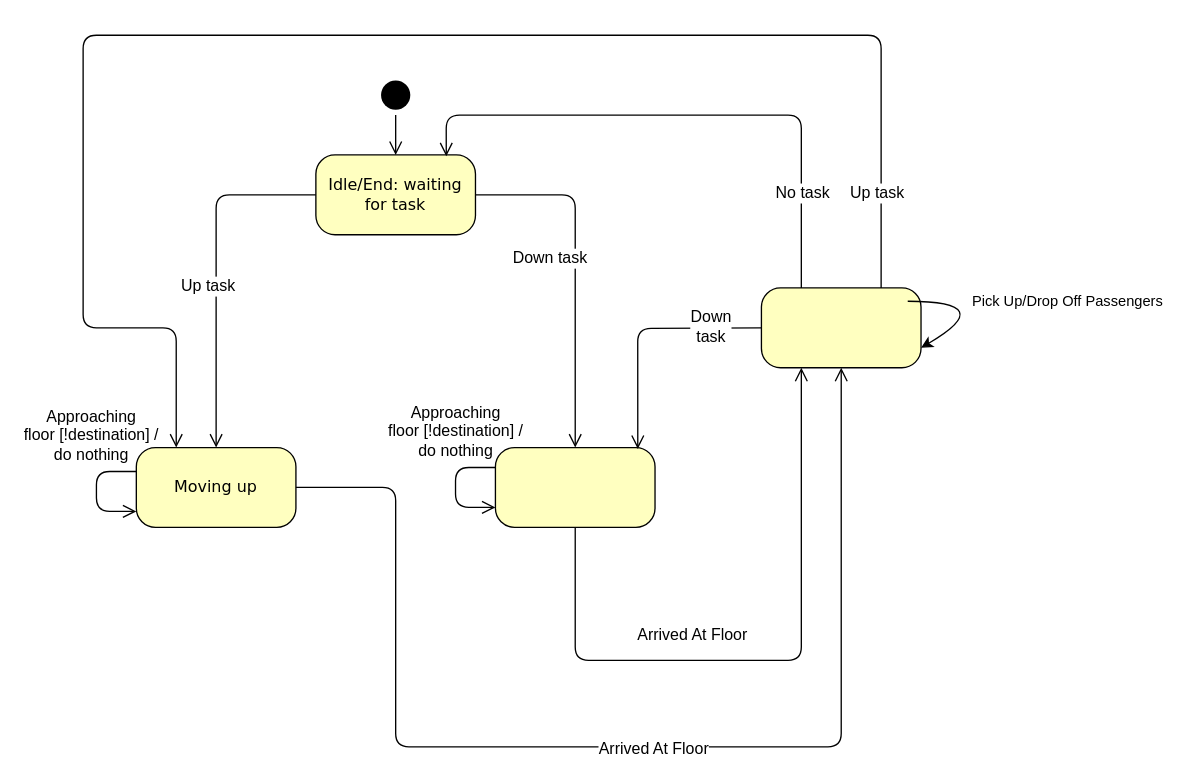
Image size: 1185x783. Some labels were removed from this diagram. Each missing label, with the centre of its shape:
"Moving down" belongs at point 574,486.
"Stop" belongs at point 840,327.
